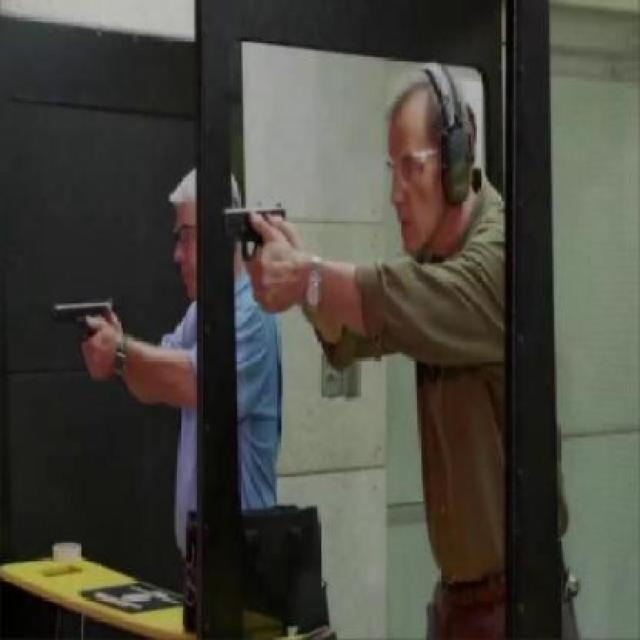gun: (222, 200, 286, 274), (51, 297, 117, 354)
